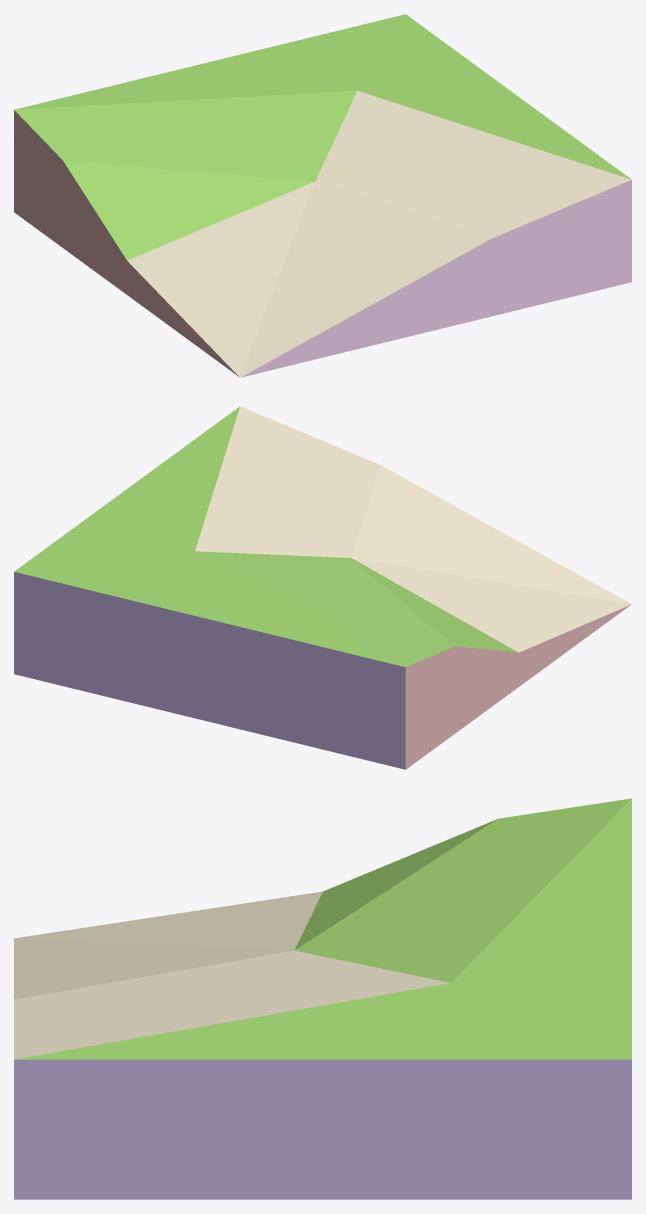
Rendered from Path_Terrain_Transition_Grass_Side_Curve_1x1.fbx.
3 views of the same model, one above another, from view 1: azimuth 30°, elevation 25°; view 2: azimuth 150°, elevation 25°; view 3: azimuth 270°, elevation 25° (orthographic). The views are drawn at different scales.
Parts seen in each view (by area): view 1: Path_Terrain_Transition_Grass_Side_Curve_1x1; view 2: Path_Terrain_Transition_Grass_Side_Curve_1x1; view 3: Path_Terrain_Transition_Grass_Side_Curve_1x1.
Part boxes in pixels (x1=…): Path_Terrain_Transition_Grass_Side_Curve_1x1: x1=14, y1=14, x2=631, y2=377; Path_Terrain_Transition_Grass_Side_Curve_1x1: x1=14, y1=406, x2=631, y2=769; Path_Terrain_Transition_Grass_Side_Curve_1x1: x1=14, y1=798, x2=631, y2=1199.
Size of the model in its own units: 100 by 25 by 100.
